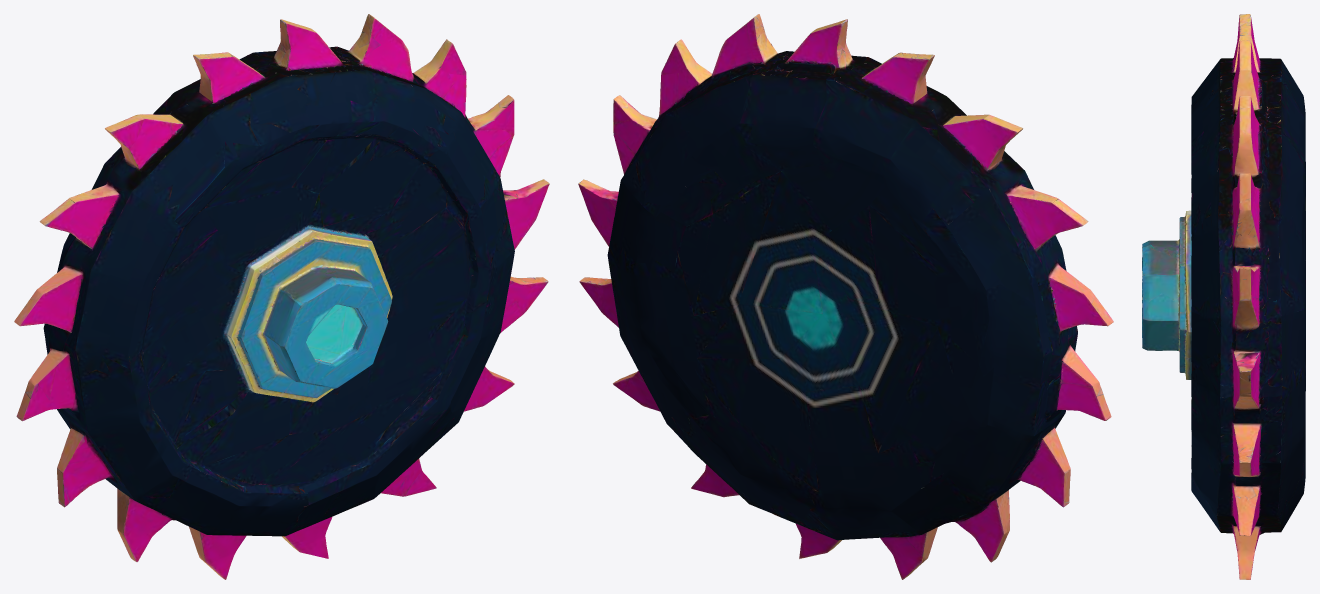
Rendered from m-rueda-sierra.glb.
3 renders of one model, left to right at view 1: azimuth 30°, elevation 25°; view 2: azimuth 150°, elevation 25°; view 3: azimuth 270°, elevation 25°, orthographic. The views are drawn at different scales.
Size of the model in its own units: 1.9 by 1.87 by 0.5417.
Materials: 1 (1 with a texture image).
